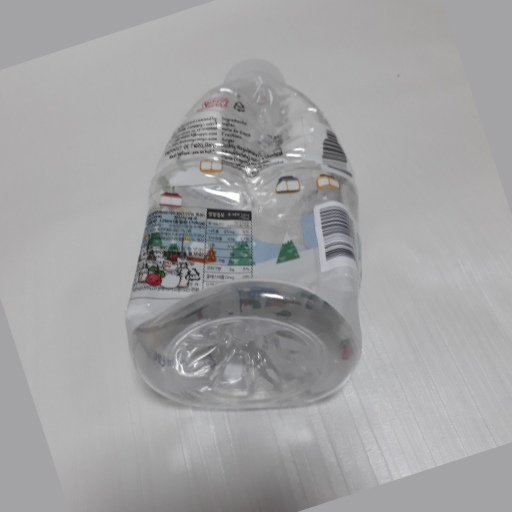Plastic_0: (127, 57, 365, 409)
